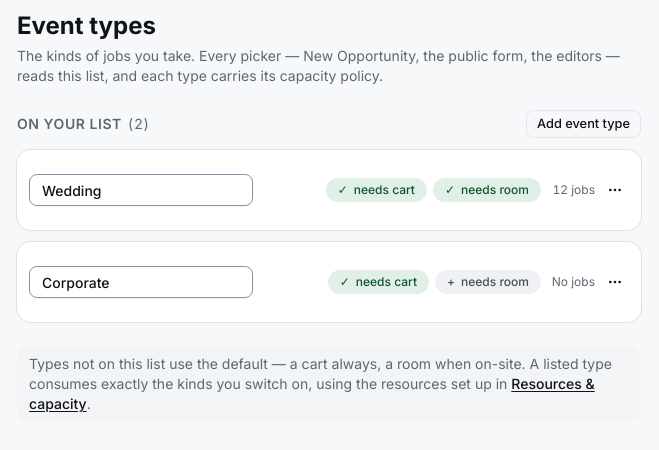
it: EventTypesClient › disables Delete with a VISIBLE archive-or-merge hint in the menu while the type is in use
Click the button named "Wedding — actions" at (615, 190), box [601, 176, 629, 204]
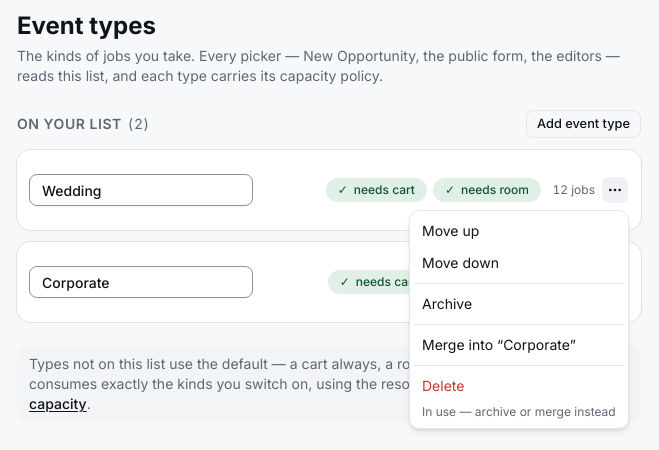
Now the text "In use — archive or merge instead" is shown, box [414, 402, 624, 424]
